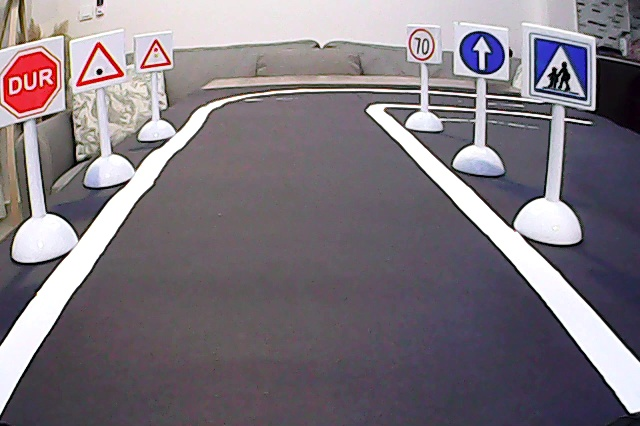green light: (72, 38, 125, 87)
red light: (132, 34, 174, 69)
school crossing: (523, 27, 596, 109)
speed limit 70: (407, 27, 443, 63)
stop sign: (2, 49, 63, 120)
